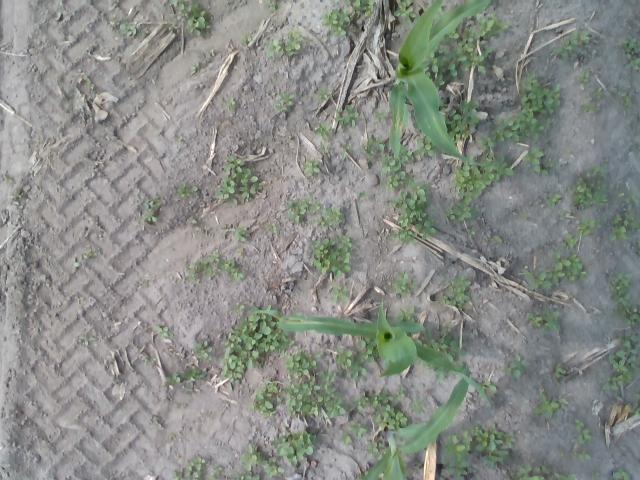Maize: (254, 298, 493, 408), (390, 0, 492, 166), (360, 363, 470, 480)
Weeds: (220, 312, 288, 382), (465, 421, 517, 466), (215, 155, 260, 204), (354, 388, 408, 427), (283, 380, 339, 415), (451, 163, 500, 198), (272, 432, 316, 467), (314, 236, 352, 276), (443, 101, 479, 140), (390, 191, 428, 226), (610, 329, 640, 371), (506, 463, 578, 480), (520, 84, 560, 114), (284, 350, 325, 379), (441, 274, 472, 312), (454, 41, 486, 74), (512, 110, 544, 140), (554, 253, 588, 281), (475, 14, 509, 36), (250, 390, 276, 416), (522, 268, 552, 290), (284, 198, 311, 222), (362, 134, 383, 164), (136, 199, 162, 223), (534, 394, 560, 418), (570, 177, 593, 204), (612, 304, 639, 327), (430, 321, 450, 351), (504, 355, 530, 378), (188, 9, 210, 35), (453, 198, 478, 220), (608, 281, 630, 306), (442, 435, 466, 456), (322, 206, 346, 226), (389, 226, 417, 243), (241, 443, 257, 472), (380, 152, 401, 173), (272, 91, 294, 111), (381, 175, 404, 194), (554, 38, 578, 56), (544, 306, 562, 330), (414, 137, 436, 156), (286, 26, 302, 52), (592, 180, 608, 206), (130, 187, 148, 210), (520, 147, 544, 164), (414, 220, 435, 239), (496, 155, 515, 176), (347, 361, 368, 379), (617, 36, 640, 52), (182, 366, 208, 380), (216, 224, 236, 242), (548, 264, 566, 284), (326, 399, 346, 417), (394, 2, 416, 18), (176, 182, 198, 198), (336, 348, 352, 370), (316, 365, 335, 382), (175, 0, 191, 20), (304, 156, 320, 176), (346, 105, 360, 127), (578, 220, 600, 234), (610, 225, 628, 242), (195, 342, 213, 359), (330, 286, 350, 301), (266, 37, 282, 55), (187, 457, 205, 473), (398, 305, 416, 321), (154, 324, 174, 338), (263, 465, 284, 478), (460, 29, 476, 46), (522, 72, 538, 89), (358, 336, 375, 352), (392, 279, 410, 294), (450, 342, 469, 356), (218, 258, 236, 272), (560, 234, 578, 248), (232, 471, 260, 480), (353, 348, 371, 362), (232, 226, 247, 242), (360, 0, 374, 17), (454, 461, 468, 478), (374, 108, 388, 124), (332, 20, 346, 36), (480, 136, 496, 150), (528, 312, 542, 328), (578, 428, 592, 444), (612, 468, 630, 480), (321, 11, 336, 25), (184, 268, 198, 283), (546, 192, 561, 206), (618, 369, 632, 384), (351, 422, 366, 436), (480, 380, 497, 392), (588, 166, 608, 176), (572, 451, 592, 461), (412, 400, 426, 414), (434, 368, 448, 382), (120, 24, 136, 36), (314, 123, 330, 135), (603, 378, 619, 390), (440, 462, 456, 474), (620, 92, 632, 108), (569, 29, 580, 46), (318, 84, 331, 98), (336, 9, 350, 22), (412, 181, 426, 194), (618, 272, 631, 286), (231, 268, 243, 282), (580, 70, 592, 84), (554, 364, 566, 378), (366, 440, 378, 454), (268, 380, 280, 394), (447, 60, 457, 76), (430, 53, 438, 73), (584, 104, 600, 114), (504, 130, 520, 140), (626, 192, 639, 204), (480, 152, 494, 163), (232, 301, 246, 312), (438, 56, 446, 75), (400, 146, 410, 161), (401, 170, 413, 182), (580, 29, 592, 41), (493, 130, 505, 142), (396, 384, 405, 400), (207, 251, 219, 262), (341, 432, 352, 444), (190, 2, 200, 15), (434, 73, 444, 86), (500, 116, 513, 126), (167, 374, 180, 384), (622, 220, 638, 228), (79, 333, 93, 342), (442, 210, 454, 220), (534, 166, 549, 174), (256, 452, 266, 464), (630, 58, 640, 70), (336, 111, 345, 124), (624, 209, 634, 220), (628, 404, 639, 414), (181, 258, 190, 270), (190, 61, 198, 74), (312, 200, 320, 213), (198, 259, 208, 269), (612, 214, 622, 224), (0, 171, 10, 181), (203, 267, 214, 276), (348, 0, 362, 7), (572, 204, 588, 210), (576, 420, 584, 432), (490, 236, 503, 243), (546, 118, 555, 128), (320, 143, 330, 152), (483, 46, 492, 56), (448, 32, 459, 40), (439, 46, 450, 54), (285, 338, 293, 349), (175, 471, 184, 480), (265, 222, 275, 230), (614, 190, 624, 198), (456, 453, 466, 461), (398, 269, 408, 277), (86, 250, 97, 257), (227, 98, 236, 106), (316, 217, 324, 226), (558, 398, 566, 406), (592, 472, 600, 480), (184, 386, 192, 394), (594, 91, 603, 98), (192, 473, 201, 480), (342, 143, 352, 149), (466, 228, 476, 234), (212, 466, 222, 472), (16, 188, 22, 198), (170, 0, 178, 7), (188, 216, 196, 223), (142, 278, 149, 286), (611, 86, 618, 94), (342, 150, 347, 161), (270, 0, 276, 9), (74, 259, 80, 268), (544, 163, 554, 168), (628, 54, 638, 59), (428, 216, 434, 224), (558, 448, 564, 456), (242, 34, 248, 42), (248, 30, 252, 41), (360, 191, 366, 198), (634, 394, 640, 401), (210, 474, 217, 480), (142, 356, 149, 362), (522, 213, 530, 218), (140, 30, 148, 35), (86, 78, 91, 86), (168, 26, 178, 30), (404, 0, 414, 4), (270, 458, 278, 463), (238, 248, 244, 254), (170, 434, 176, 440), (211, 48, 215, 56), (152, 358, 157, 364), (180, 136, 187, 140), (90, 84, 94, 89)
